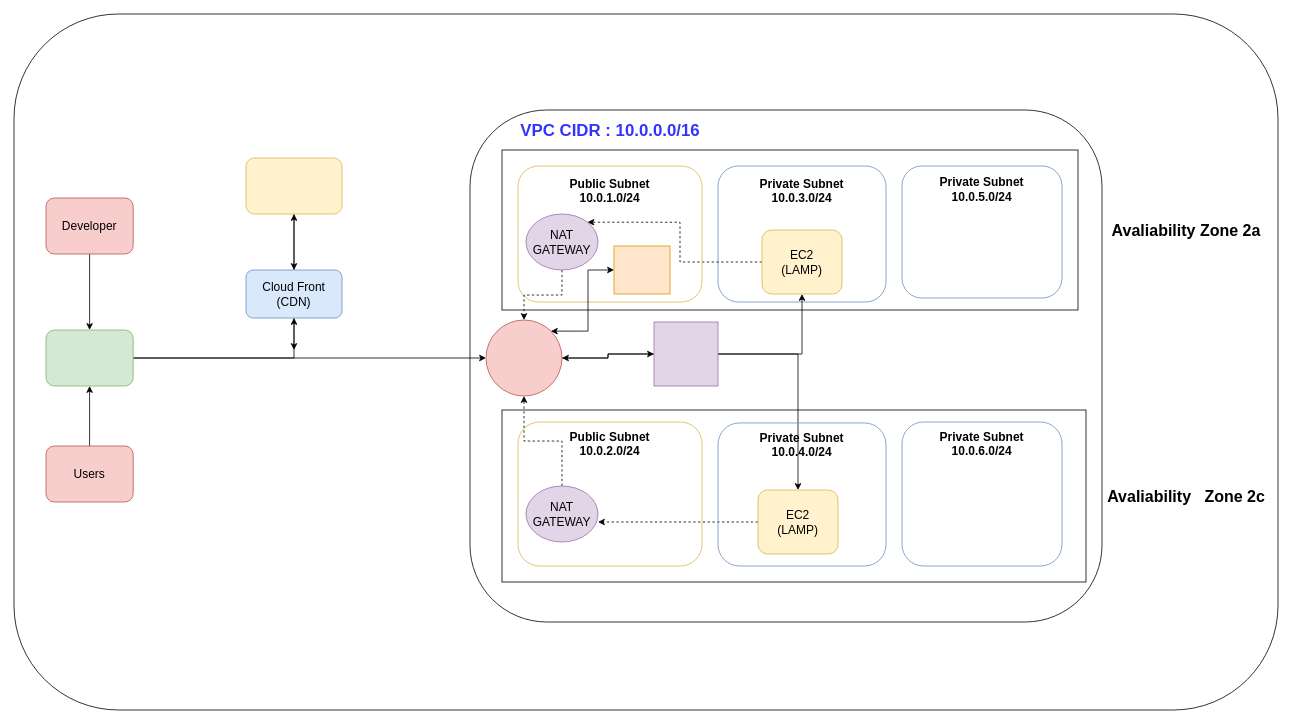
Image size: 1292x724. Some labels were removed from this diagram. Here are the shapes that lost their labels. From the top down, the centre of each, then its label:
the point at 293,185: S3 Bucket (Object Storage)
the point at 641,269: Bastian
the point at 89,357: Internet
the point at 523,357: Internet GateWay
the point at 685,353: ELB - ALB
